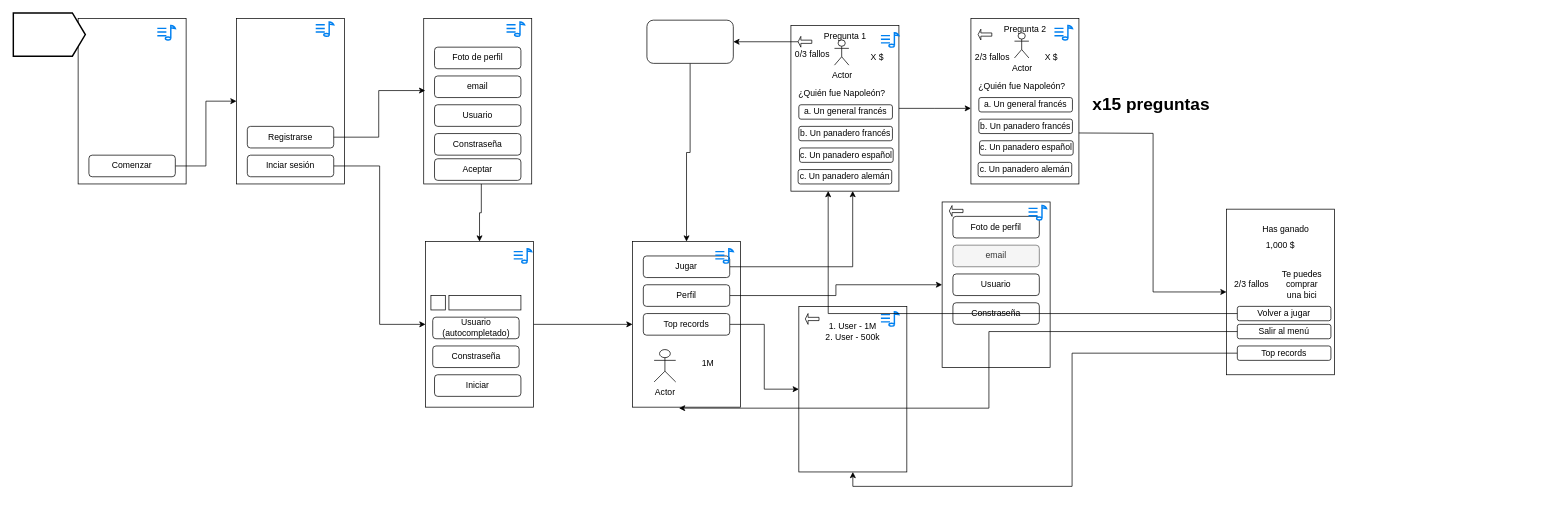
Some shapes in this 1555 by 505 pixel diagram are drawn without their labels. The shapes that lost their labels are listed below. From the top down, each one's centre as x and y in pixels, then its label:
At point 49,34: "Shared preference".
At point 689,41: "Modal: Estás seguro que quieres salir (al menú princial, se perderá el progreso?".
At point 484,302: "Recordar cuenta".
